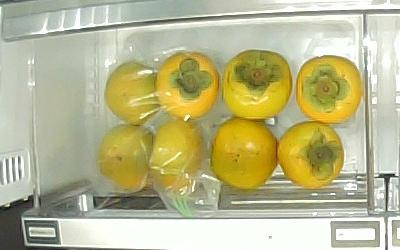persimmon: (220, 49, 293, 120), (211, 119, 279, 189), (277, 121, 345, 190), (295, 55, 362, 125)
persimmon_vinyl: (155, 52, 219, 120), (148, 120, 205, 186), (99, 123, 155, 190), (103, 62, 159, 126)
